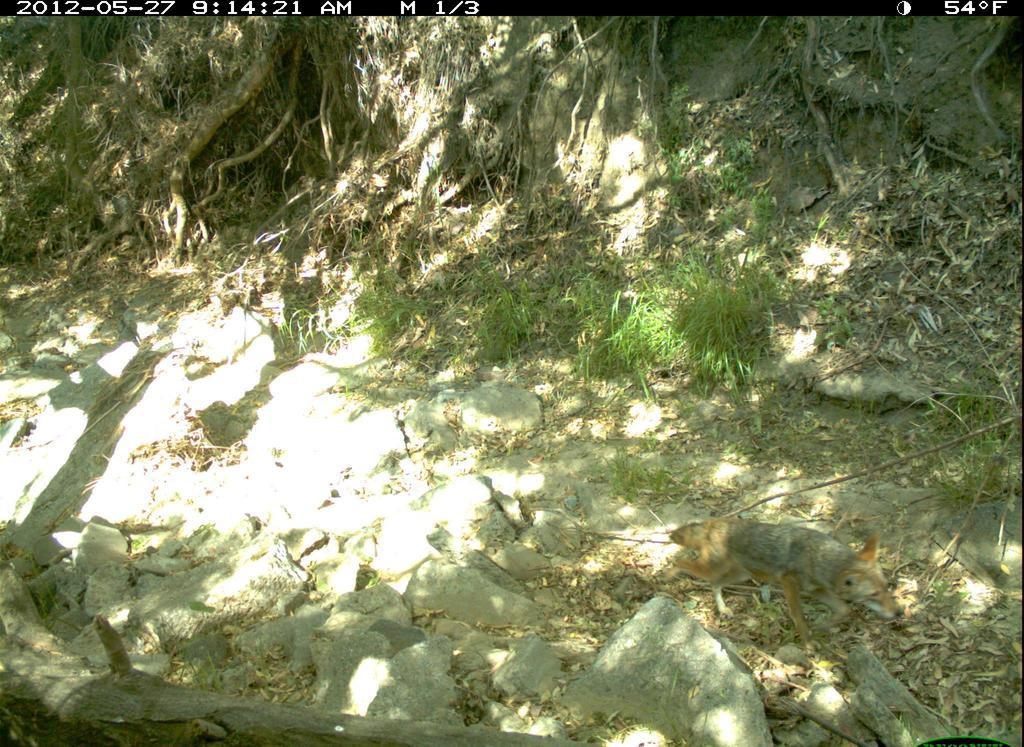coyote: (655, 495, 920, 660)
